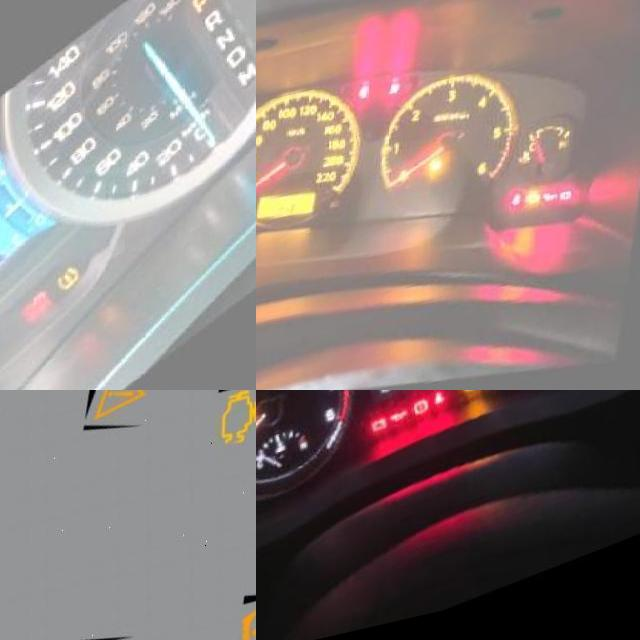High Engine Coolant Temperature: (520, 169, 534, 185)
Seat Belt: (514, 214, 524, 226)
